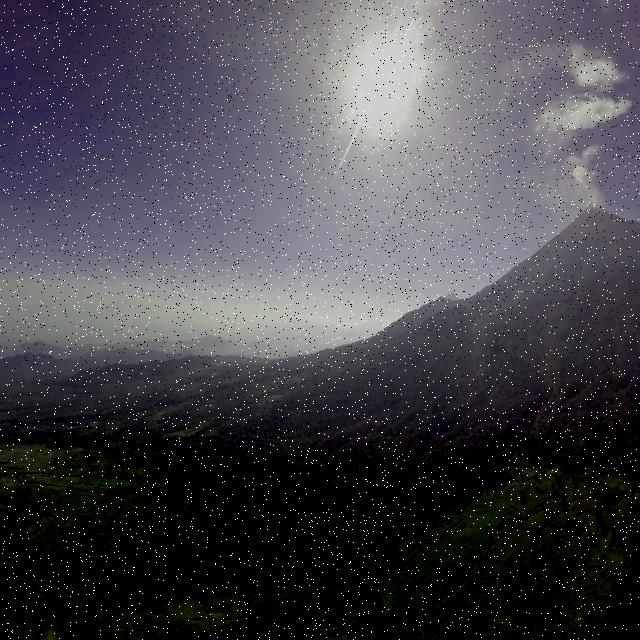Plume: (536, 95, 631, 134), (564, 137, 606, 213), (566, 41, 624, 90)
Summit: (578, 192, 614, 226)
